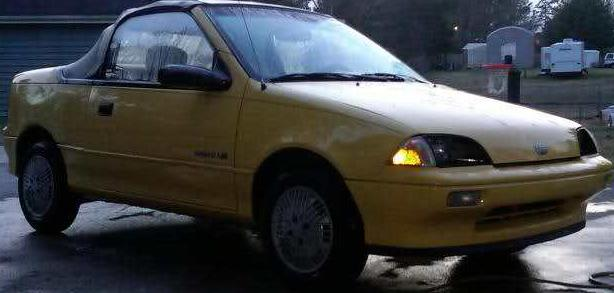front_view: (375, 111, 595, 233)
headlight: (379, 122, 471, 184)
side_glass: (72, 10, 237, 104)
